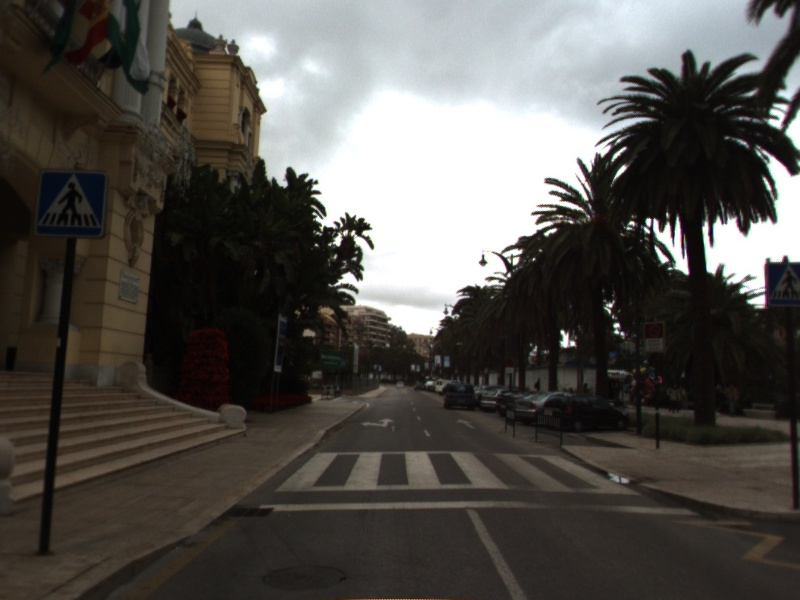STRAIGHT: (454, 417, 477, 430)
STRAIGHT_LEFT: (359, 416, 396, 429)
